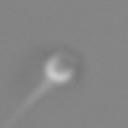normal: (1, 79, 50, 126)
